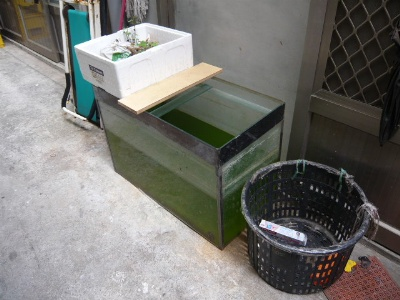aquarium: (91, 73, 289, 251)
styrofoam: (74, 22, 196, 99)
